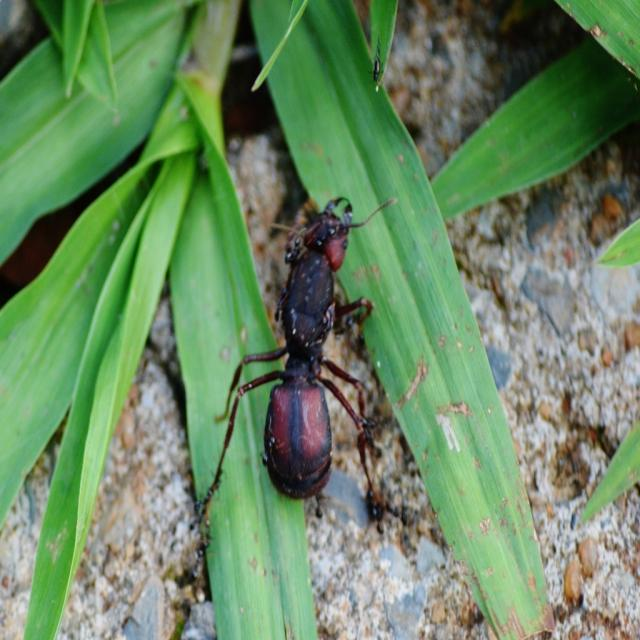Alive-Female-Dealate: (204, 196, 398, 524)
